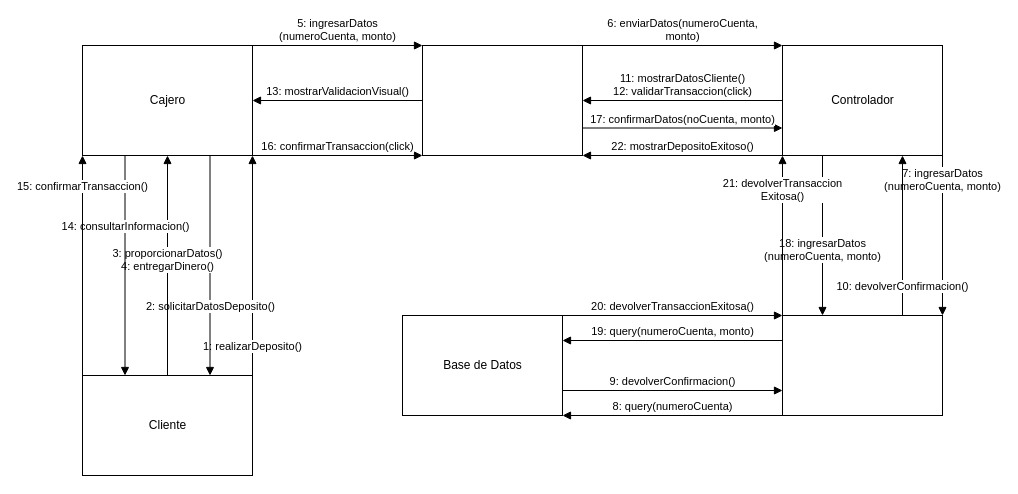
Some shapes in this 1018 by 494 pixel diagram are drawn without their labels. The shapes that lost their labels are listed below. From the top down, each one's centre as x and y in pixels, then its label:
the point at 502,100: UI
the point at 862,365: AccesoAObjetos
